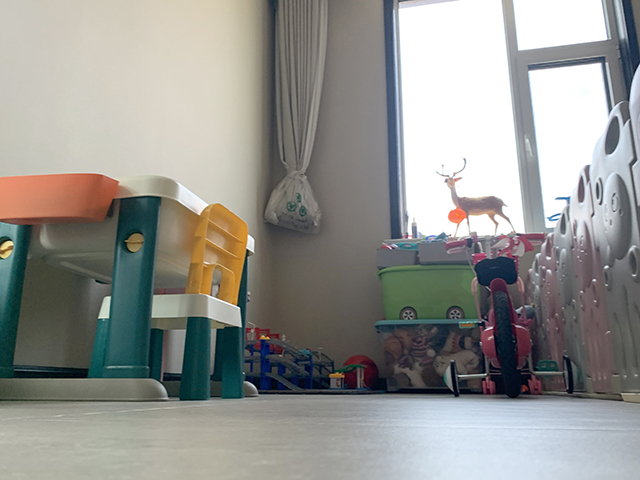stool: (86, 202, 248, 402)
table: (1, 170, 260, 403)
